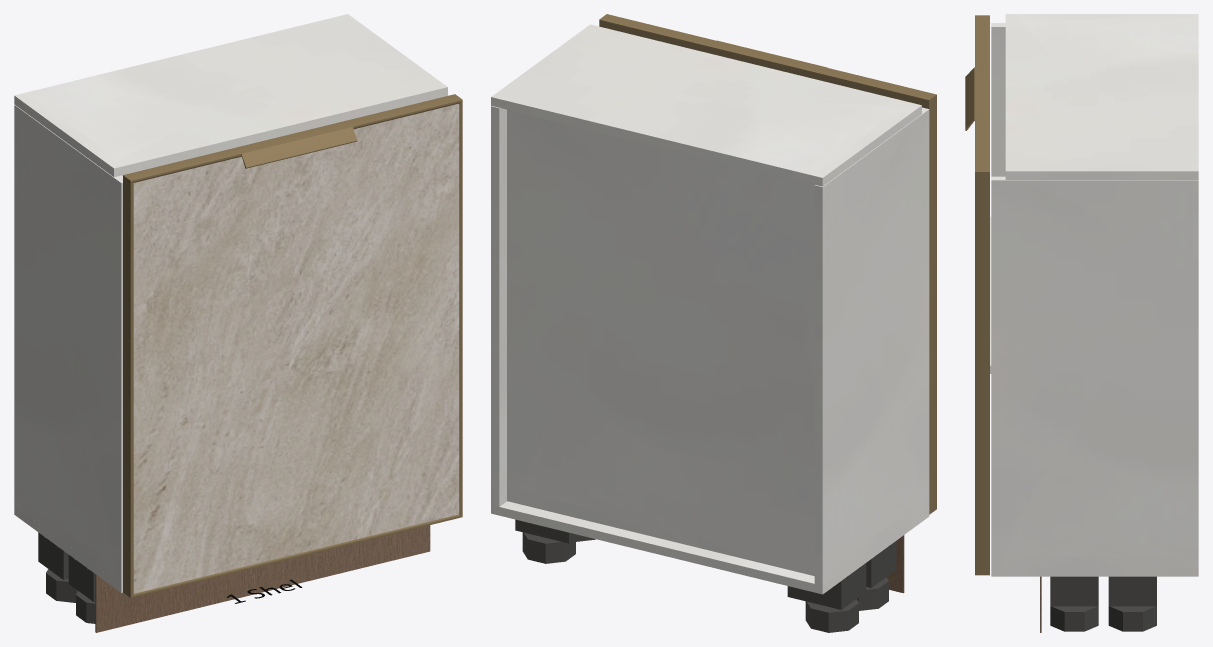
The model's file is BCL-SH-TTS-ST-1SX-LHS-XXX-600-720-336-15.glb.
3 views of the same model, side by side, from view 1: azimuth 30°, elevation 25°; view 2: azimuth 150°, elevation 25°; view 3: azimuth 270°, elevation 25° (orthographic). The views are drawn at different scales.
Visible parts, largest first — view 1: Object_node_12, TP_node, TP_node_1, Object_node_14, Extrusion_node_4, ExtrSplGeo, Extrusion_node, Extrusion_node_2, Extrusion_node_3, TP, Plate, Plate_node_0 (+1 smaller); view 2: TP_node_3, TP_node, TP_node_1, TP, TP_node_0, Extrusion_node_4, Extrusion_node, ExtrSplGeo, Plate, Foot, Foot_node, Plate_node_0 (+3 smaller); view 3: TP_node_0, TP_node_1, Extrusion_node_2, TP_node, TP, Extrusion_node, Plate_node_1, Plate_node, ExtrSplGeo, Foot_node_1, Foot_node.
Boxes of the visible parts, x1,y1,x2,y2 form: Object_node_12: (133,103,459,593); TP_node: (14,104,122,584); TP_node_1: (14,14,447,177); Object_node_14: (95,525,430,632); Extrusion_node_4: (123,175,133,597); ExtrSplGeo: (233,121,357,168); Extrusion_node: (123,94,462,182); Extrusion_node_2: (459,100,462,516); Extrusion_node_3: (131,514,462,597); TP: (14,506,122,592); Plate: (38,532,68,579); Plate_node_0: (68,555,95,601); TP_node_3: (507,109,814,575); TP_node: (814,107,929,585); TP_node_1: (491,24,921,186); TP: (491,501,929,594); TP_node_0: (491,106,506,506); Extrusion_node_4: (922,94,936,514); Extrusion_node: (599,14,936,105); ExtrSplGeo: (709,40,827,79); Plate: (787,563,866,609); Foot: (805,599,858,632); Foot_node: (522,532,575,563); Plate_node_0: (866,541,896,587); TP_node_0: (991,176,1198,568); TP_node_1: (1005,14,1198,179); Extrusion_node_2: (975,172,989,575); TP_node: (991,23,1005,176); TP: (991,568,1198,576); Extrusion_node: (975,15,989,171); Plate_node_1: (1050,576,1098,606); Plate_node: (1108,576,1156,606); ExtrSplGeo: (965,67,989,130); Foot_node_1: (1050,606,1098,631); Foot_node: (1108,606,1156,631).
Size of what is drawn, in the model's own units: 0.6 by 0.82 by 0.376.
6 materials, 3 textured.
